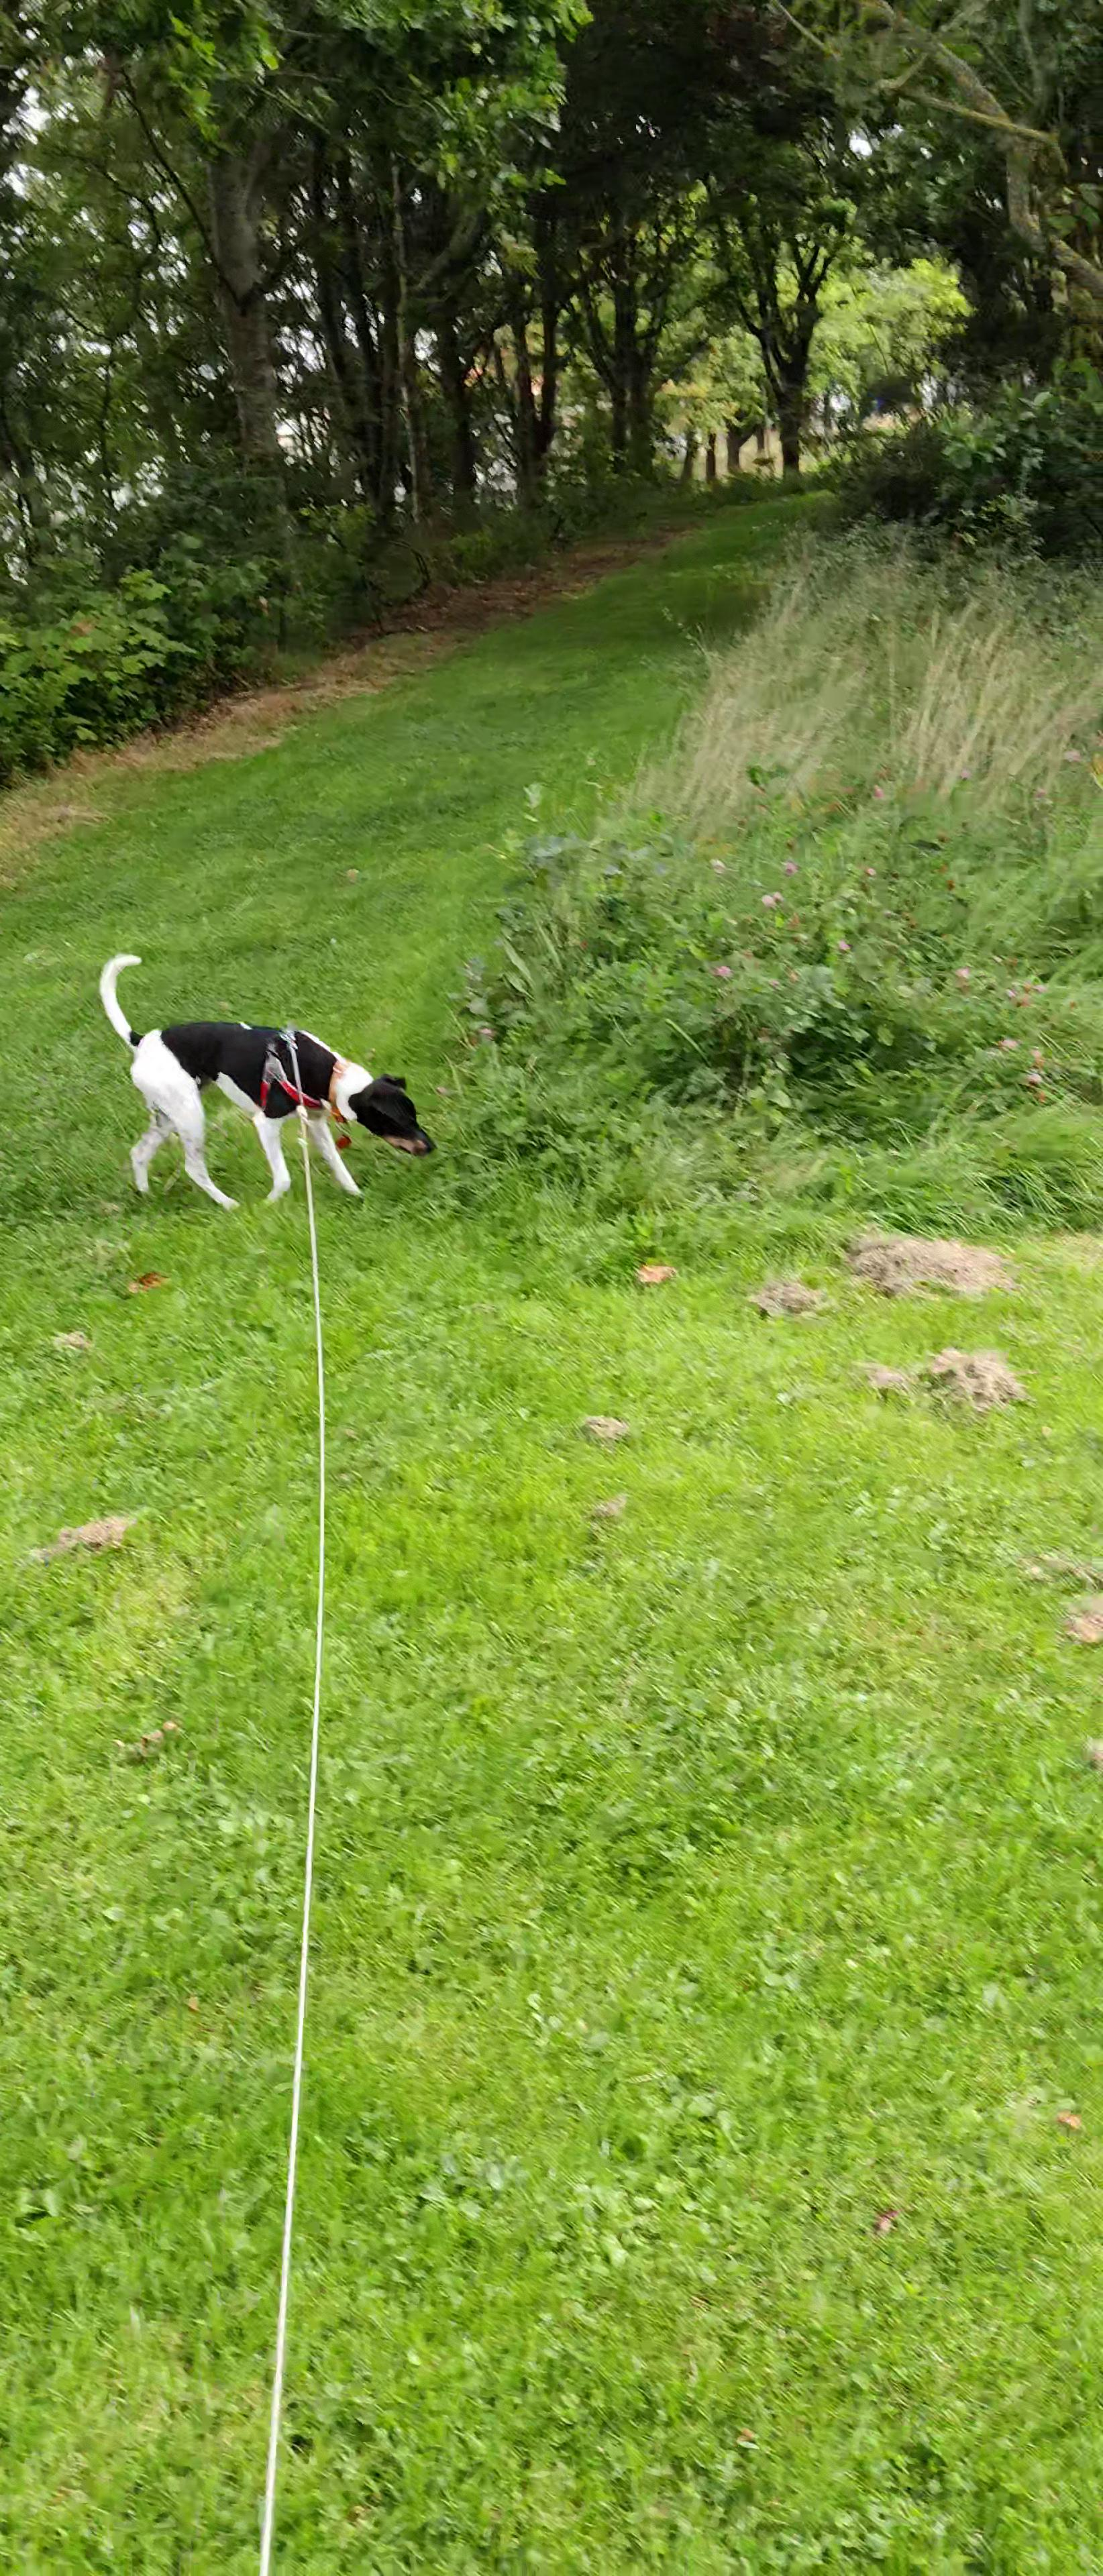Dog: (95, 950, 441, 1214)
